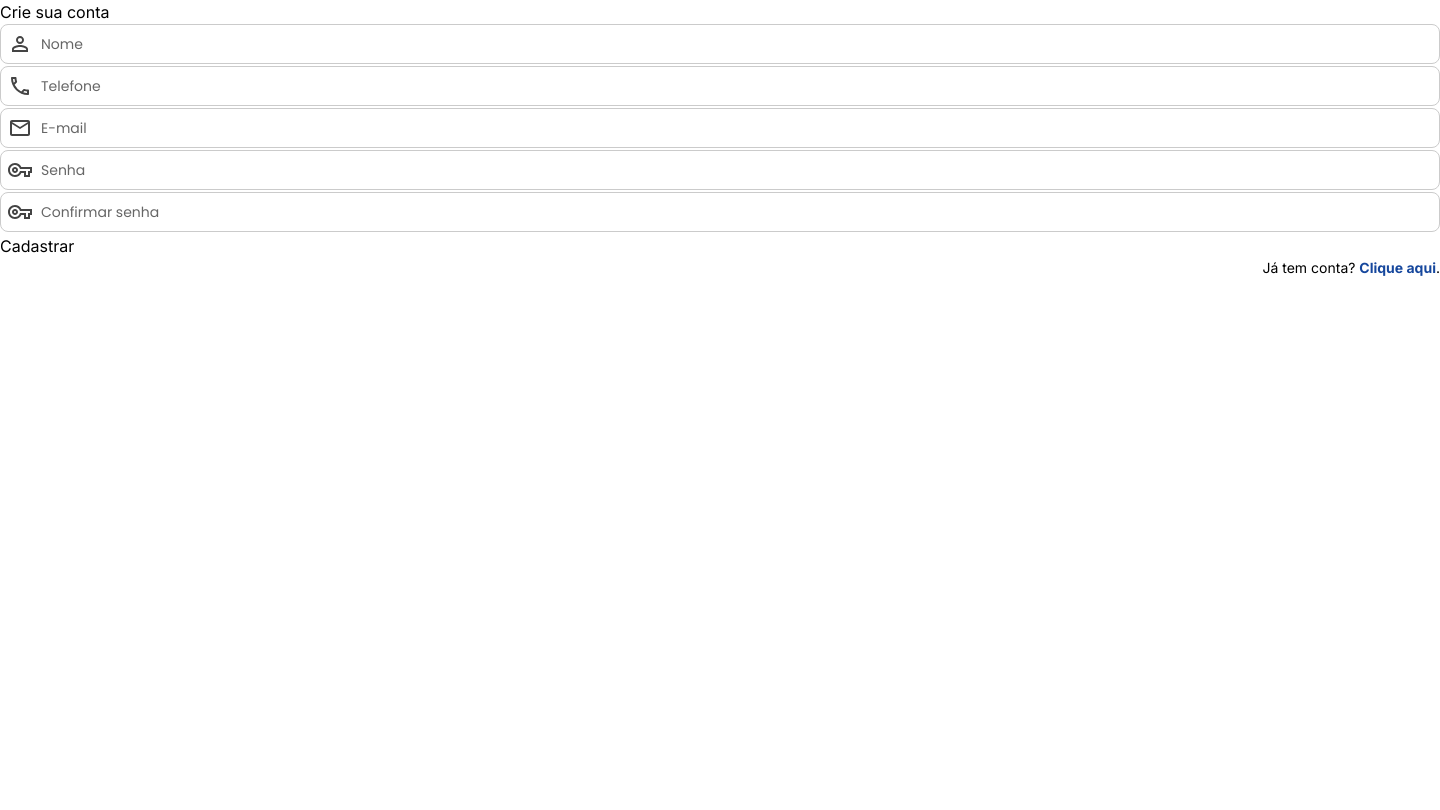
Register Component › should validate empty fields on submit
Click the button "Cadastrar": (37, 246) top-left (0, 234), bottom-right (74, 258)
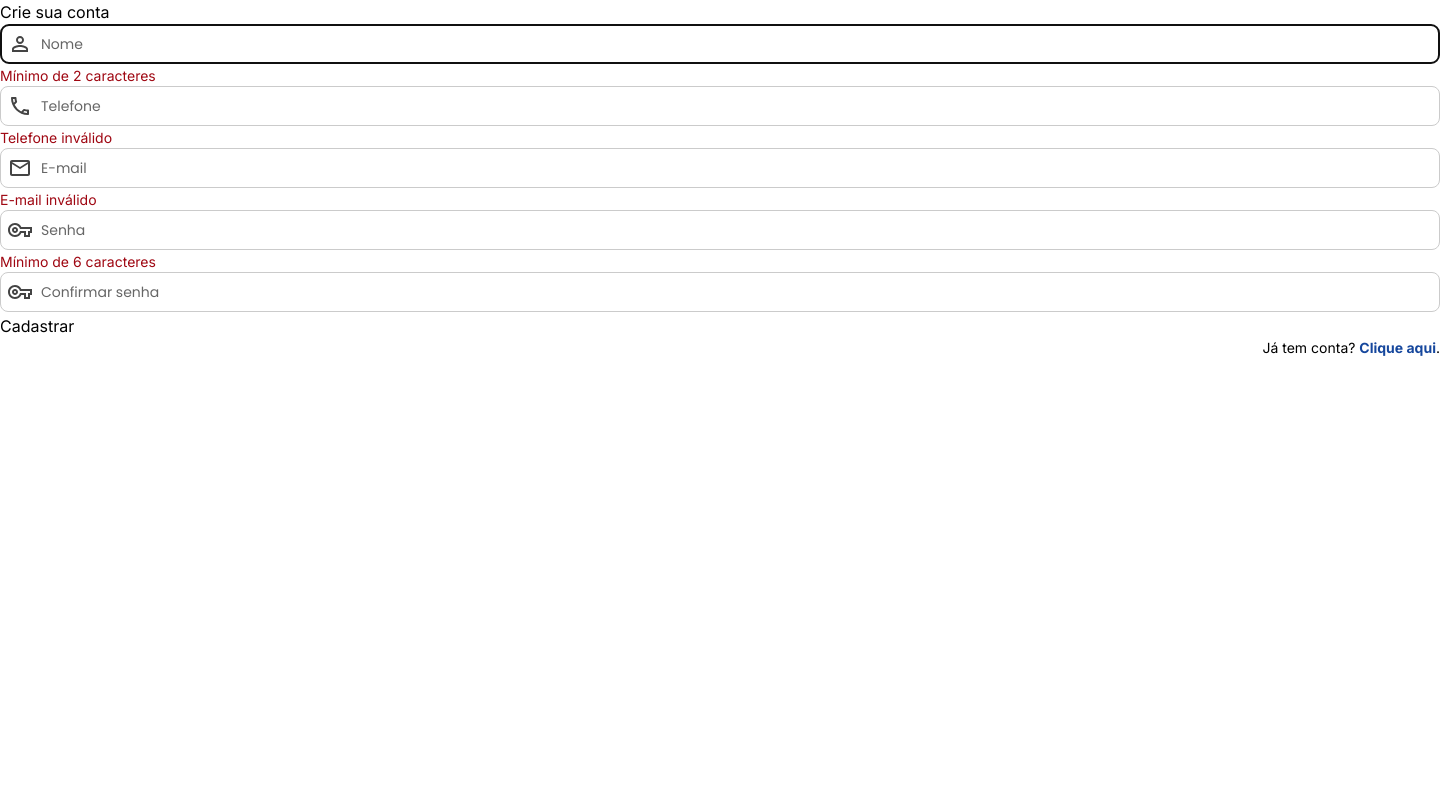
Check: the text "Mínimo de 2 caracteres" is shown, box top-left (0, 67), bottom-right (156, 84)
Check: the text "Telefone inválido" is shown, box top-left (0, 129), bottom-right (112, 146)
Check: the text "E-mail inválido" is shown, box top-left (0, 191), bottom-right (97, 208)
